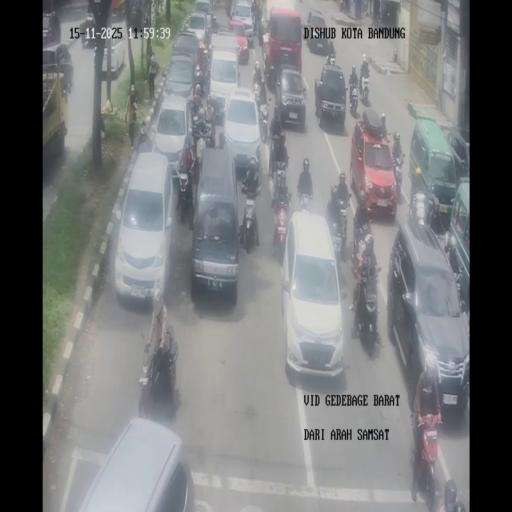car: (388, 219, 468, 413), (66, 417, 192, 510), (282, 210, 345, 379), (114, 151, 174, 304), (190, 140, 240, 299), (351, 114, 396, 220), (152, 94, 194, 180), (208, 44, 242, 122), (314, 62, 348, 131), (275, 65, 307, 133), (162, 54, 197, 104), (41, 43, 73, 94), (445, 126, 469, 185), (92, 35, 125, 77), (306, 9, 330, 53), (184, 10, 212, 47), (230, 0, 254, 42), (42, 11, 61, 48), (79, 12, 96, 48), (126, 0, 144, 25), (110, 0, 126, 22)
motorcycle: (138, 328, 178, 421), (410, 406, 441, 510), (350, 250, 380, 344), (326, 196, 349, 268), (271, 181, 291, 259), (175, 157, 195, 222), (238, 192, 259, 253), (450, 261, 469, 327), (410, 186, 434, 230), (270, 142, 288, 185), (256, 96, 270, 144), (391, 154, 405, 201), (263, 39, 275, 89), (193, 59, 207, 96), (200, 116, 216, 148), (348, 76, 360, 114), (359, 69, 371, 105), (297, 188, 313, 214), (252, 73, 264, 107), (256, 7, 265, 47), (187, 98, 199, 128), (136, 134, 152, 154), (143, 2, 152, 26), (250, 0, 258, 21), (326, 51, 336, 65), (211, 13, 218, 33), (361, 0, 369, 17), (340, 0, 350, 12)
